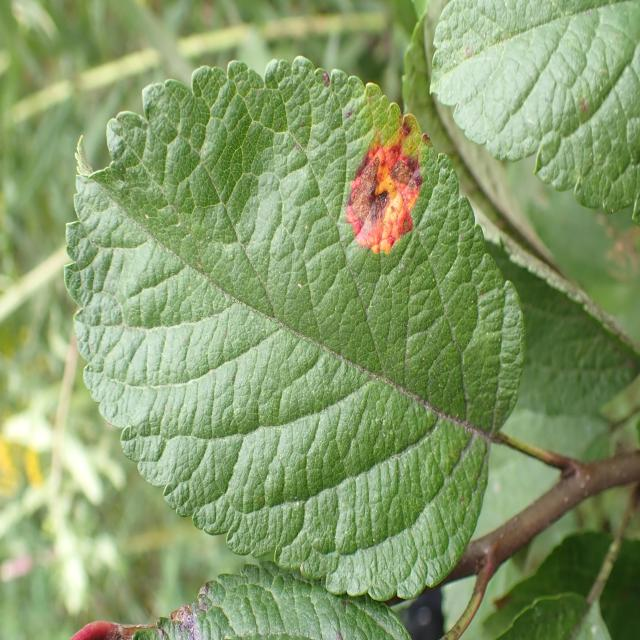rust: (63, 54, 526, 601)
